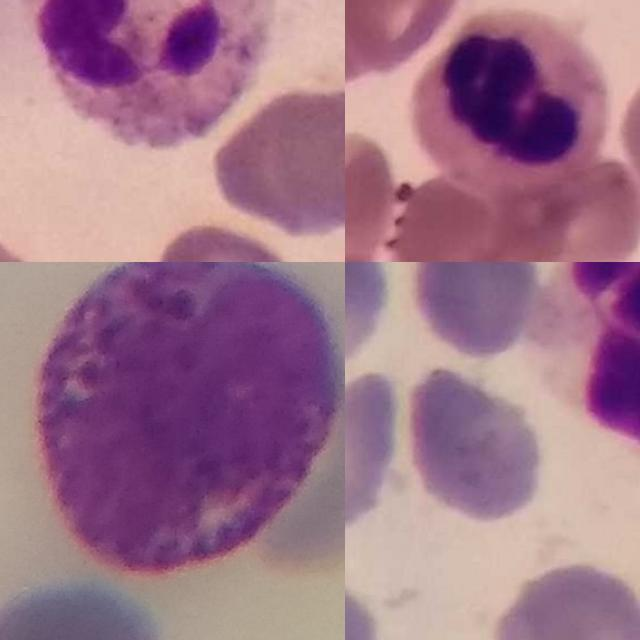Basophil: (34, 262, 343, 580)
Neutrophil: (413, 11, 609, 199), (30, 0, 273, 147), (535, 262, 640, 453)
